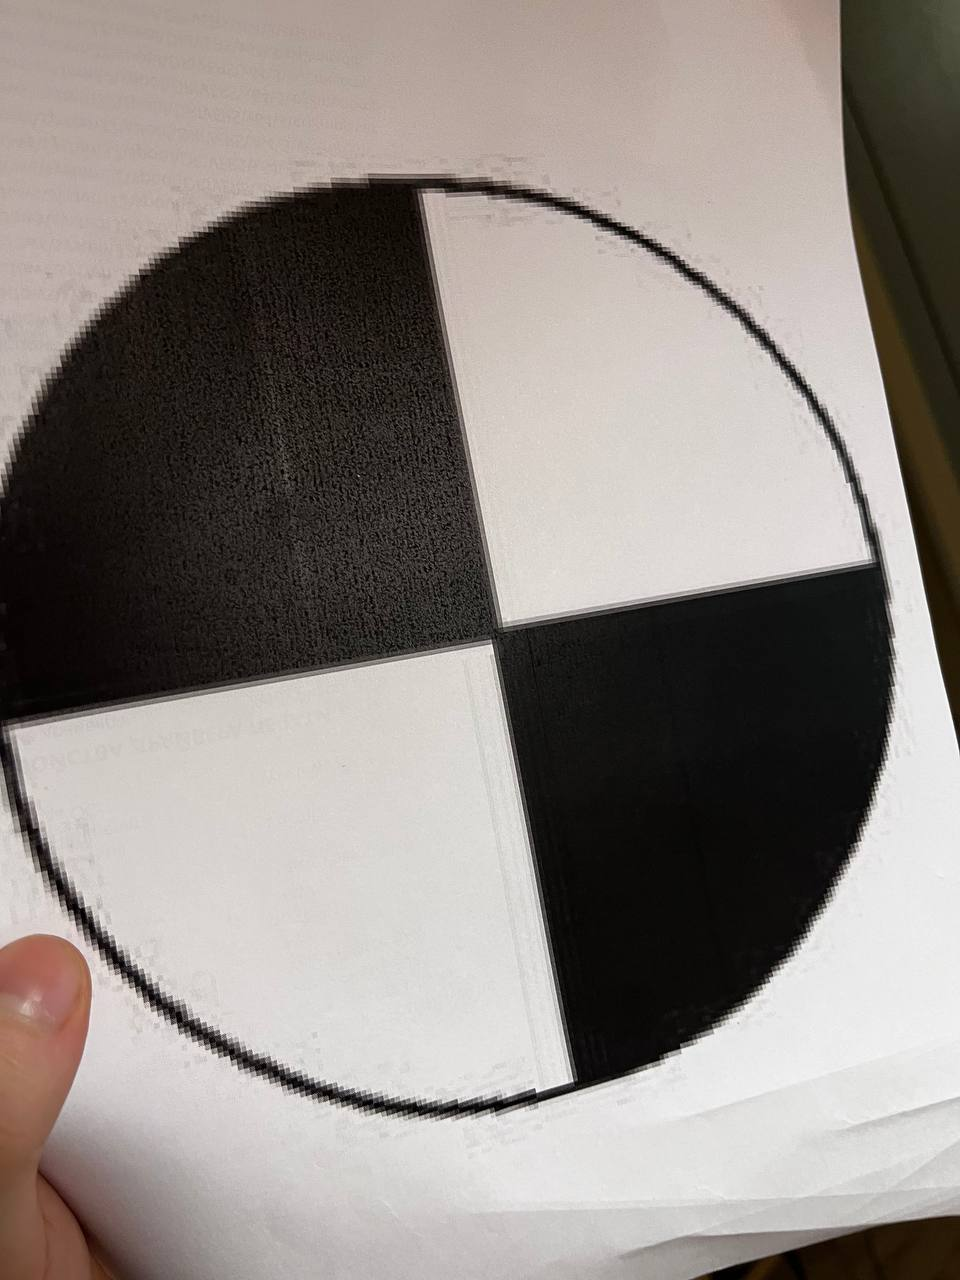pattern: (4, 172, 896, 1114)
